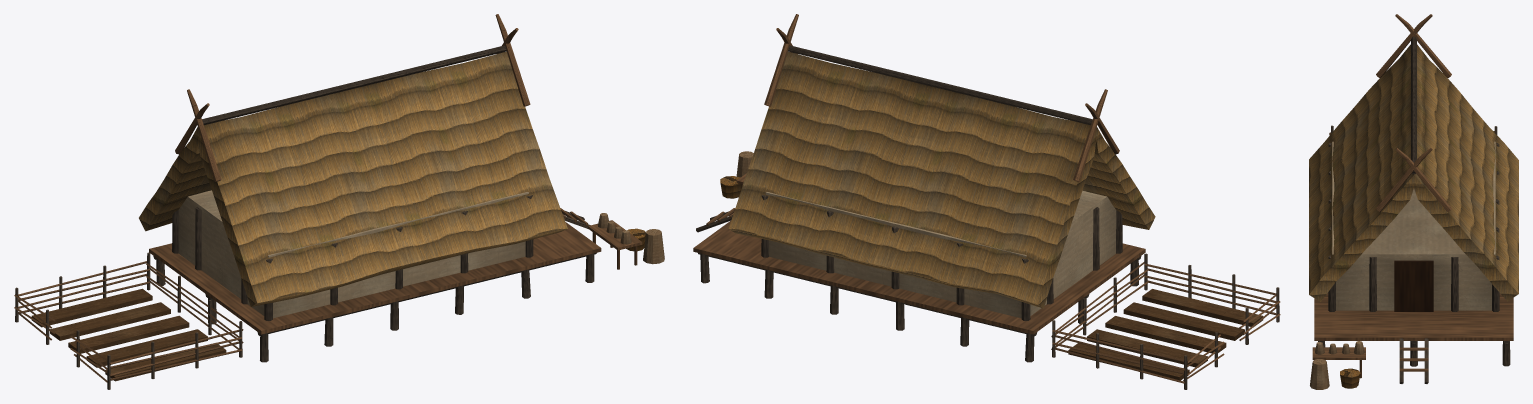
The model's file is casa_impalcato_piccola_b.glb.
3 views of the same model, side by side, from view 1: azimuth 30°, elevation 25°; view 2: azimuth 150°, elevation 25°; view 3: azimuth 270°, elevation 25° (orthographic). The views are drawn at different scales.
Visible parts, largest first — view 1: casa_impalcato_piccola_b; view 2: casa_impalcato_piccola_b; view 3: casa_impalcato_piccola_b.
Boxes of the visible parts, x1,y1,x2,y2 form: casa_impalcato_piccola_b: (14, 14, 664, 389); casa_impalcato_piccola_b: (693, 14, 1280, 389); casa_impalcato_piccola_b: (1309, 14, 1518, 389).
Size of the model in its own units: 15.85 by 6.33 by 5.9.
Materials: 8 (8 with a texture image).
